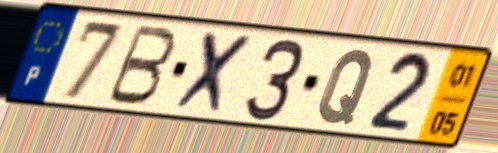2: (360, 47, 439, 142)
3: (241, 35, 307, 124)
7: (64, 16, 125, 102)
B: (102, 22, 180, 109)
Q: (313, 47, 378, 127)
X: (169, 28, 260, 118)
